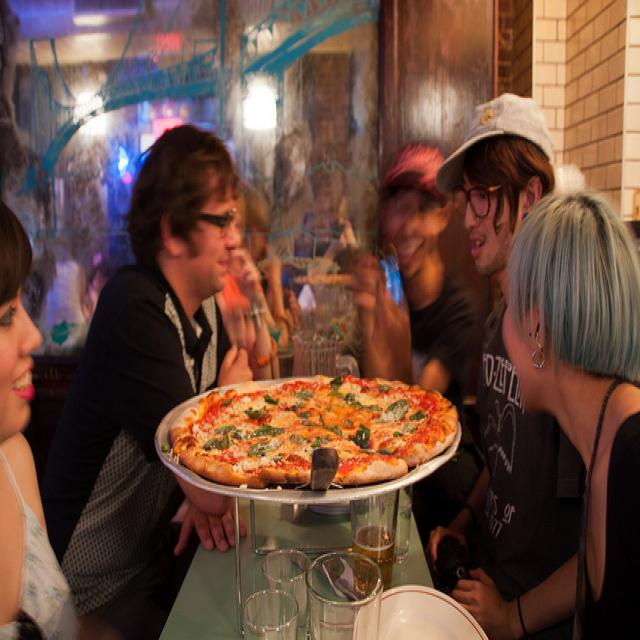chair: (22, 356, 81, 481)
dining table: (159, 509, 435, 633)
